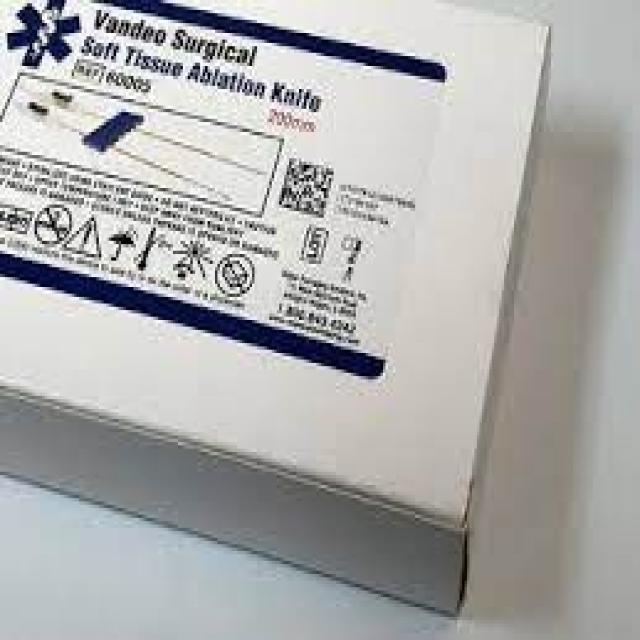datamatrix: (277, 145, 336, 224)
